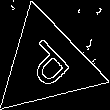P_SE: (17, 33, 78, 95)
